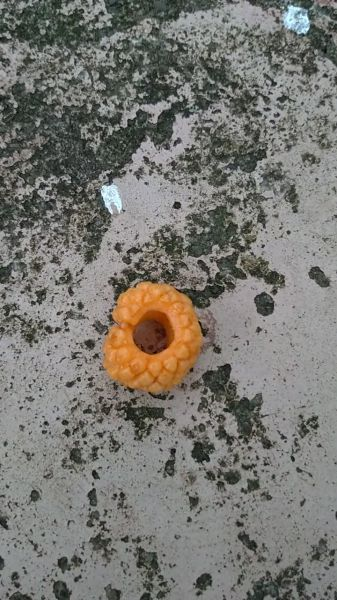eggs: (102, 278, 207, 397)
